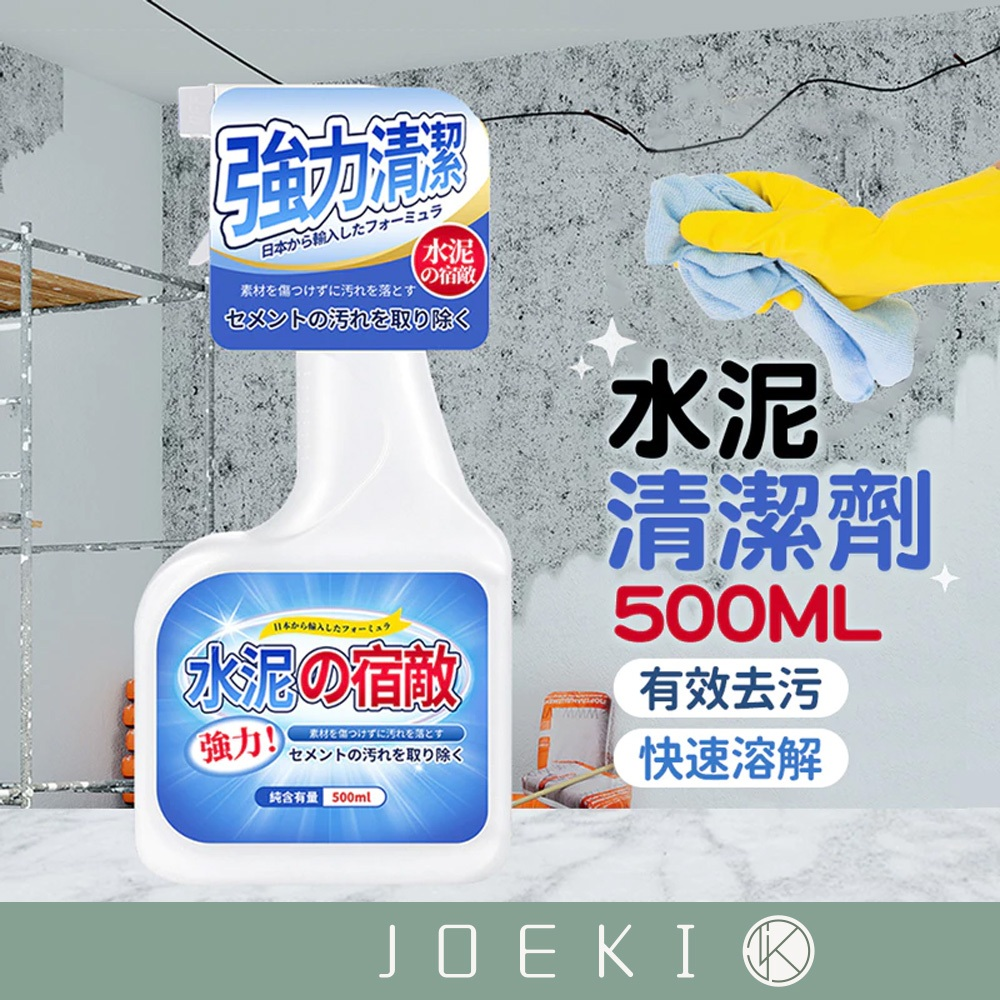cleaner: (130, 84, 512, 883)
